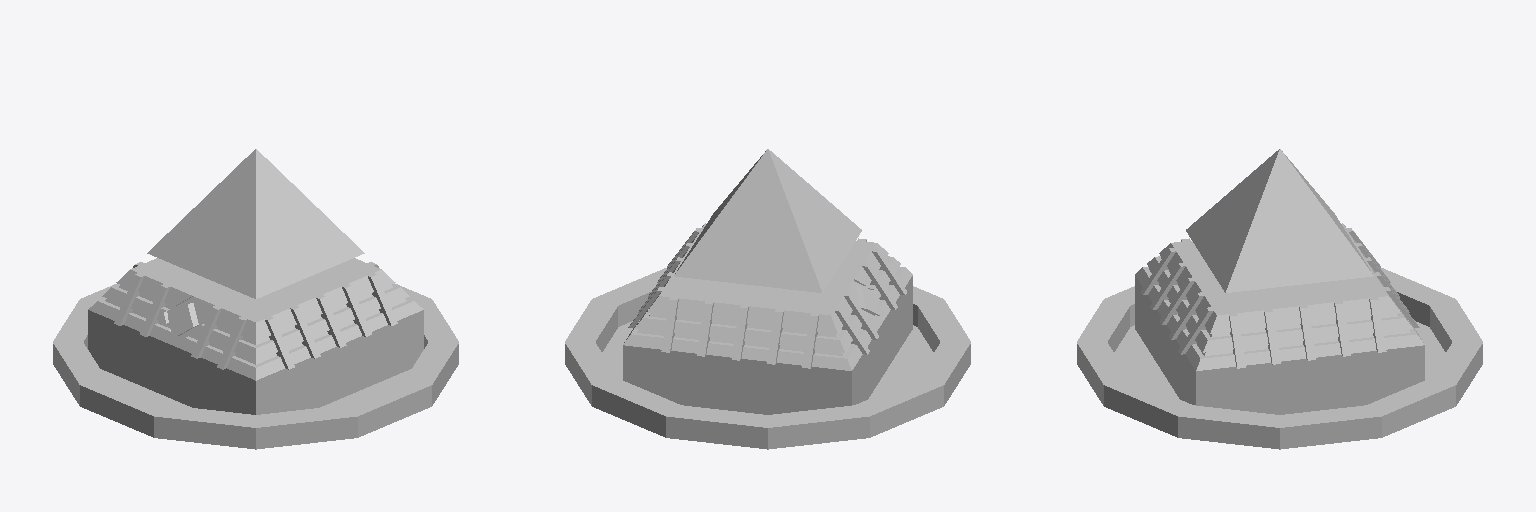
The model's file is Tower2UpdateC4D.obj.
The picture shows the model from 3 angles: view 1: azimuth 30°, elevation 25°; view 2: azimuth 150°, elevation 25°; view 3: azimuth 270°, elevation 25°; orthographic projection.
Visible parts, largest first — view 1: Mesh1_Component_5_1_Model, PiramitUst, Mesh27_Group2_Component_16_1_Model, Mesh26_Component_22_1_Group2_Component_16_1_Model, Mesh21_Component_20_3_Group2_Component_16_1_Model, Mesh3_Group3_Group2_Component_16_1_Model, Mesh17_Component_21_12_Component_20_3_Group2_Component_16_1_Mode, Mesh23_Component_21_17_Component_22_1_Group2_Component_16_1_Mode, Mesh19_Component_21_14_Component_20_3_Group2_Component_16_1_Mode, Mesh22_Component_21_16_Component_22_1_Group2_Component_16_1_Mode, Mesh25_Component_21_19_Component_22_1_Group2_Component_16_1_Mode, Mesh24_Component_21_18_Component_22_1_Group2_Component_16_1_Mode (+3 smaller); view 2: Mesh1_Component_5_1_Model, PiramitUst, Mesh27_Group2_Component_16_1_Model, Mesh9_Component_20_1_Group2_Component_16_1_Model, Mesh3_Group3_Group2_Component_16_1_Model, Mesh26_Component_22_1_Group2_Component_16_1_Model, Mesh4_Component_21_1_Component_20_1_Group2_Component_16_1_Model, Mesh5_Component_21_2_Component_20_1_Group2_Component_16_1_Model, Mesh6_Component_21_3_Component_20_1_Group2_Component_16_1_Model, Mesh8_Component_21_5_Component_20_1_Group2_Component_16_1_Model, Mesh7_Component_21_4_Component_20_1_Group2_Component_16_1_Model; view 3: Mesh1_Component_5_1_Model, PiramitUst, Mesh27_Group2_Component_16_1_Model, Mesh15_Component_20_2_Group2_Component_16_1_Model, Mesh3_Group3_Group2_Component_16_1_Model, Mesh21_Component_20_3_Group2_Component_16_1_Model, Mesh13_Component_21_9_Component_20_2_Group2_Component_16_1_Model, Mesh14_Component_21_10_Component_20_2_Group2_Component_16_1_Mode, Mesh11_Component_21_7_Component_20_2_Group2_Component_16_1_Model, Mesh12_Component_21_8_Component_20_2_Group2_Component_16_1_Model, Mesh10_Component_21_6_Component_20_2_Group2_Component_16_1_Model.
Part boxes in pixels (x1,y1,x2,y2): Mesh1_Component_5_1_Model: (53,284,458,449); PiramitUst: (147,149,364,298); Mesh27_Group2_Component_16_1_Model: (88,310,423,414); Mesh26_Component_22_1_Group2_Component_16_1_Model: (88,270,255,380); Mesh21_Component_20_3_Group2_Component_16_1_Model: (256,270,423,380); Mesh3_Group3_Group2_Component_16_1_Model: (130,258,381,321); Mesh17_Component_21_12_Component_20_3_Group2_Component_16_1_Mode: (287,304,320,358); Mesh23_Component_21_17_Component_22_1_Group2_Component_16_1_Mode: (140,282,172,336); Mesh19_Component_21_14_Component_20_3_Group2_Component_16_1_Mode: (364,272,397,325); Mesh22_Component_21_16_Component_22_1_Group2_Component_16_1_Mode: (114,272,147,325); Mesh25_Component_21_19_Component_22_1_Group2_Component_16_1_Mode: (217,315,250,369); Mesh24_Component_21_18_Component_22_1_Group2_Component_16_1_Mode: (191,304,222,358); Mesh1_Component_5_1_Model: (565,268,970,449); PiramitUst: (674,149,861,292); Mesh27_Group2_Component_16_1_Model: (623,276,912,414); Mesh9_Component_20_1_Group2_Component_16_1_Model: (623,296,851,370); Mesh3_Group3_Group2_Component_16_1_Model: (659,223,876,314); Mesh26_Component_22_1_Group2_Component_16_1_Model: (831,243,912,369); Mesh4_Component_21_1_Component_20_1_Group2_Component_16_1_Model: (661,295,679,352); Mesh5_Component_21_2_Component_20_1_Group2_Component_16_1_Model: (697,299,714,356); Mesh6_Component_21_3_Component_20_1_Group2_Component_16_1_Model: (767,307,783,364); Mesh8_Component_21_5_Component_20_1_Group2_Component_16_1_Model: (732,305,748,360); Mesh7_Component_21_4_Component_20_1_Group2_Component_16_1_Model: (802,313,818,368); Mesh1_Component_5_1_Model: (1077,268,1482,449); PiramitUst: (1186,149,1373,292); Mesh27_Group2_Component_16_1_Model: (1135,276,1424,414); Mesh15_Component_20_2_Group2_Component_16_1_Model: (1196,296,1424,370); Mesh3_Group3_Group2_Component_16_1_Model: (1171,223,1388,314); Mesh21_Component_20_3_Group2_Component_16_1_Model: (1135,243,1216,369); Mesh13_Component_21_9_Component_20_2_Group2_Component_16_1_Model: (1368,295,1386,352); Mesh14_Component_21_10_Component_20_2_Group2_Component_16_1_Mode: (1299,303,1315,360); Mesh11_Component_21_7_Component_20_2_Group2_Component_16_1_Model: (1264,309,1280,364); Mesh12_Component_21_8_Component_20_2_Group2_Component_16_1_Model: (1334,301,1350,356); Mesh10_Component_21_6_Component_20_2_Group2_Component_16_1_Model: (1229,313,1245,368).
Size of the model in its own units: 68.53 by 40 by 68.53.